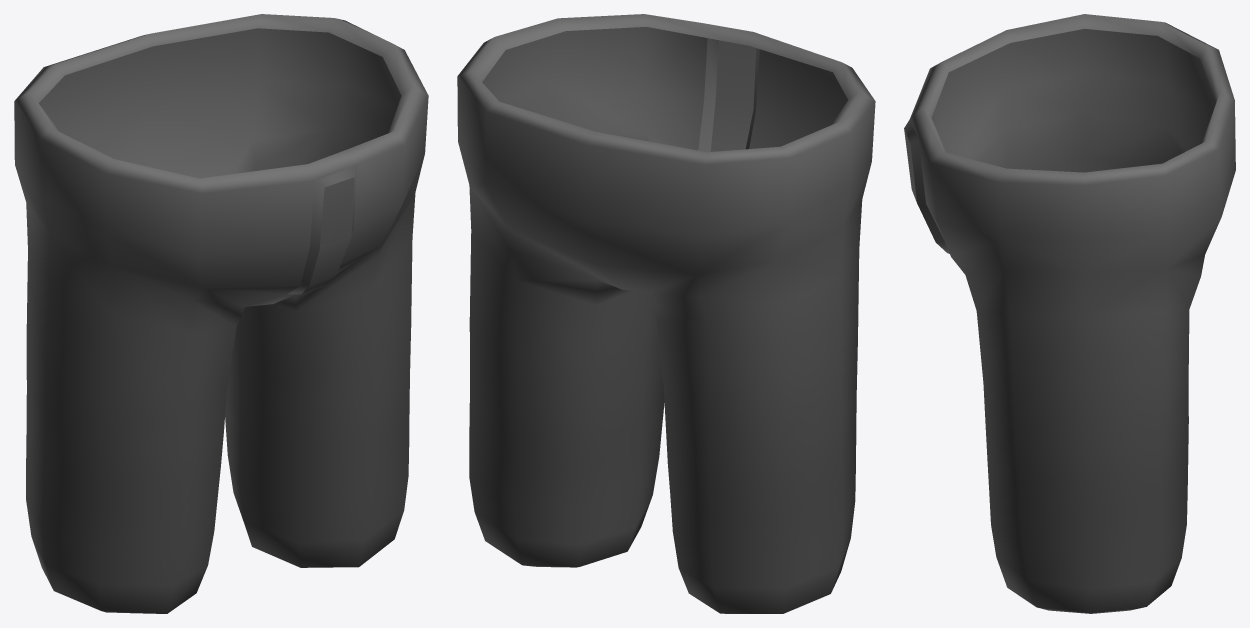
Rendered from Bottom_42.fbx.
3 renders of one model, left to right at view 1: azimuth 30°, elevation 25°; view 2: azimuth 150°, elevation 25°; view 3: azimuth 270°, elevation 25°, orthographic. The views are drawn at different scales.
Visible parts, largest first — view 1: Bottom_42; view 2: Bottom_42; view 3: Bottom_42.
Part boxes in pixels (left/top/right/bottom): Bottom_42: left=14, top=14, right=428, bottom=613; Bottom_42: left=457, top=14, right=875, bottom=613; Bottom_42: left=904, top=14, right=1235, bottom=613.
Size of the model in its own units: 38.42 by 48.68 by 31.97.
